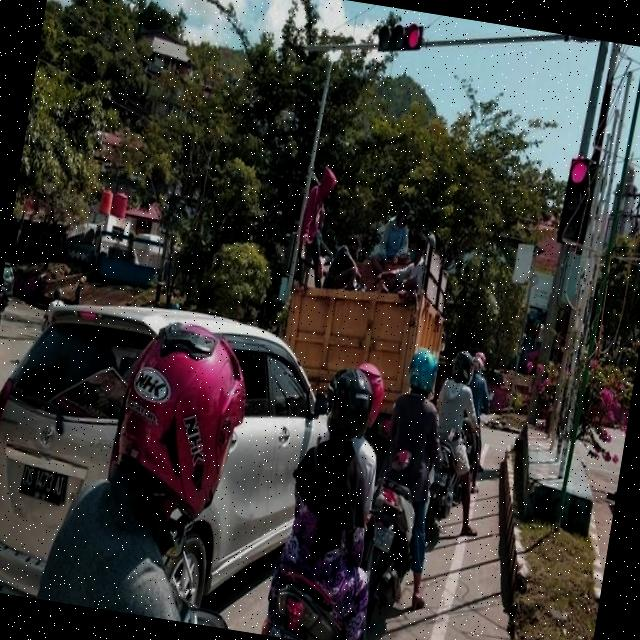Czerwone swiatlo: (560, 153, 594, 245), (375, 20, 424, 56)
